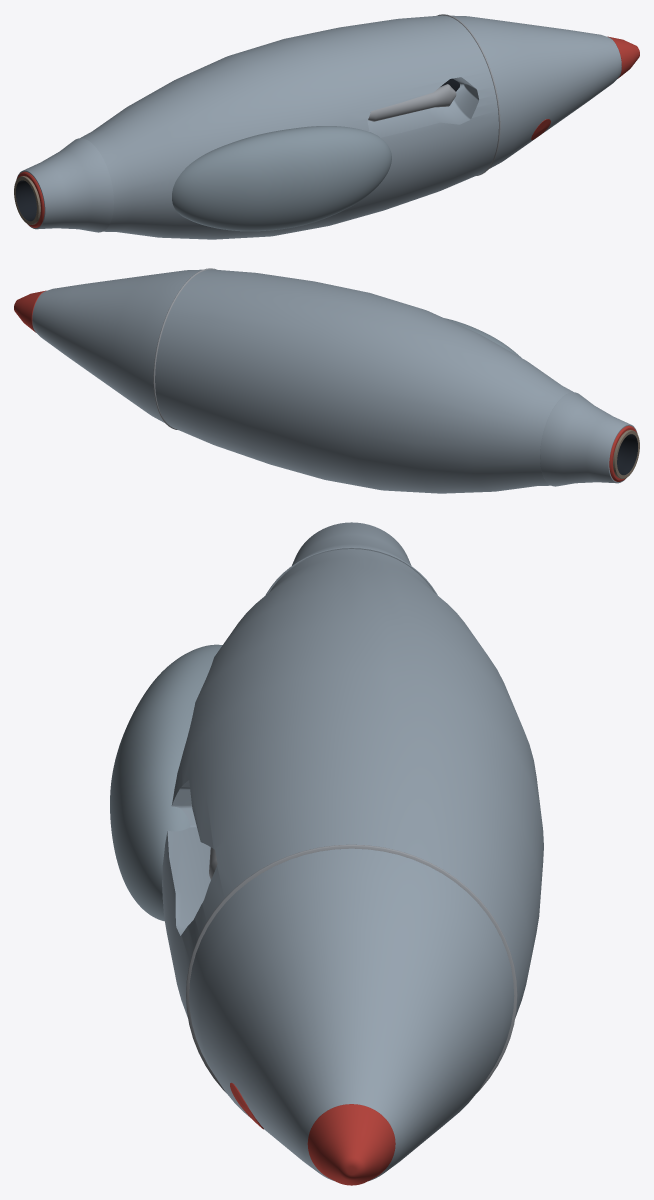
The picture shows the model from 3 angles, top to bottom: view 1: azimuth 30°, elevation 25°; view 2: azimuth 150°, elevation 25°; view 3: azimuth 270°, elevation 25°; orthographic projection. The views are drawn at different scales.
Visible parts, largest first — view 1: TI091 / Hellfire fusiform pressure casing, TI091 / Hellfire large oval side form, TI091 / Hellfire long tapered nose, TI091 / Hellfire hollow tail skirt, TI091 / Hellfire vertical port insert, TI091 / Hellfire hollow nozzle, TI091 / Hellfire small red tip, TI091 / Hellfire nose pressure joint; view 2: TI091 / Hellfire fusiform pressure casing, TI091 / Hellfire long tapered nose, TI091 / Hellfire hollow tail skirt, TI091 / Hellfire hollow nozzle, TI091 / Hellfire small red tip, TI091 / Hellfire nose pressure joint; view 3: TI091 / Hellfire fusiform pressure casing, TI091 / Hellfire long tapered nose, TI091 / Hellfire large oval side form, TI091 / Hellfire small red tip, TI091 / Hellfire nose pressure joint, TI091 / Hellfire hollow tail skirt.
Part boxes in pixels (left/top/right/bottom): TI091 / Hellfire fusiform pressure casing: left=80, top=15, right=498, bottom=239; TI091 / Hellfire large oval side form: left=172, top=126, right=391, bottom=231; TI091 / Hellfire long tapered nose: left=451, top=15, right=621, bottom=168; TI091 / Hellfire hollow tail skirt: left=16, top=138, right=113, bottom=232; TI091 / Hellfire vertical port insert: left=368, top=84, right=456, bottom=121; TI091 / Hellfire hollow nozzle: left=14, top=176, right=40, bottom=224; TI091 / Hellfire small red tip: left=607, top=36, right=639, bottom=78; TI091 / Hellfire nose pressure joint: left=436, top=14, right=500, bottom=175; TI091 / Hellfire fusiform pressure casing: left=155, top=269, right=573, bottom=493; TI091 / Hellfire long tapered nose: left=32, top=269, right=202, bottom=422; TI091 / Hellfire hollow tail skirt: left=540, top=392, right=637, bottom=486; TI091 / Hellfire hollow nozzle: left=613, top=430, right=639, bottom=478; TI091 / Hellfire small red tip: left=14, top=290, right=46, bottom=332; TI091 / Hellfire nose pressure joint: left=153, top=268, right=217, bottom=429; TI091 / Hellfire fusiform pressure casing: left=162, top=549, right=543, bottom=1018; TI091 / Hellfire long tapered nose: left=189, top=848, right=513, bottom=1181; TI091 / Hellfire large oval side form: left=110, top=644, right=222, bottom=921; TI091 / Hellfire small red tip: left=307, top=1104, right=395, bottom=1185; TI091 / Hellfire nose pressure joint: left=186, top=844, right=517, bottom=1092; TI091 / Hellfire hollow tail skirt: left=265, top=522, right=437, bottom=595.
Size of the model in its own units: 6.16 by 1.68 by 1.89.
